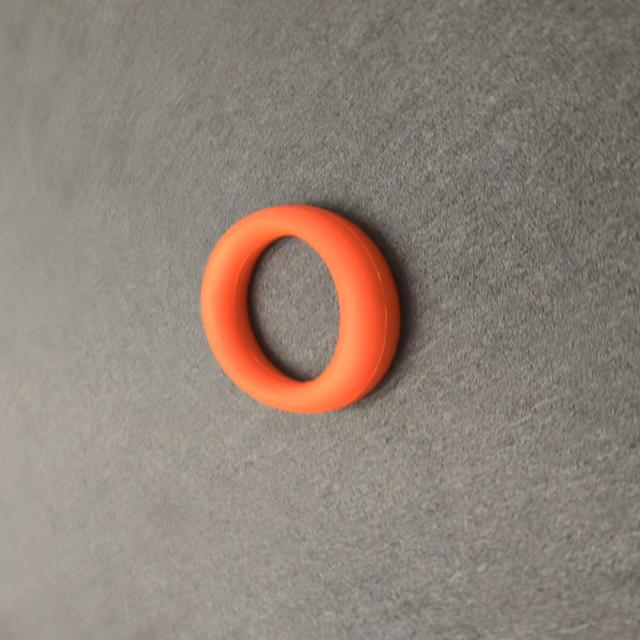note: (198, 202, 402, 406)
